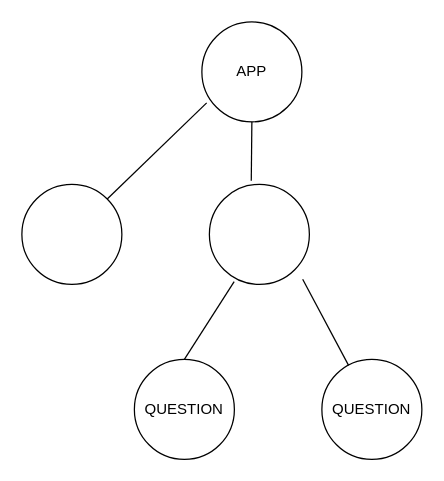
Some shapes in this 444 by 481 pixel diagram are drawn without their labels. Here are the shapes that lost their labels. From the top down, the centre of each, then its label:
At point 71,233: "NAV".
At point 258,233: "QUESTION SET".
